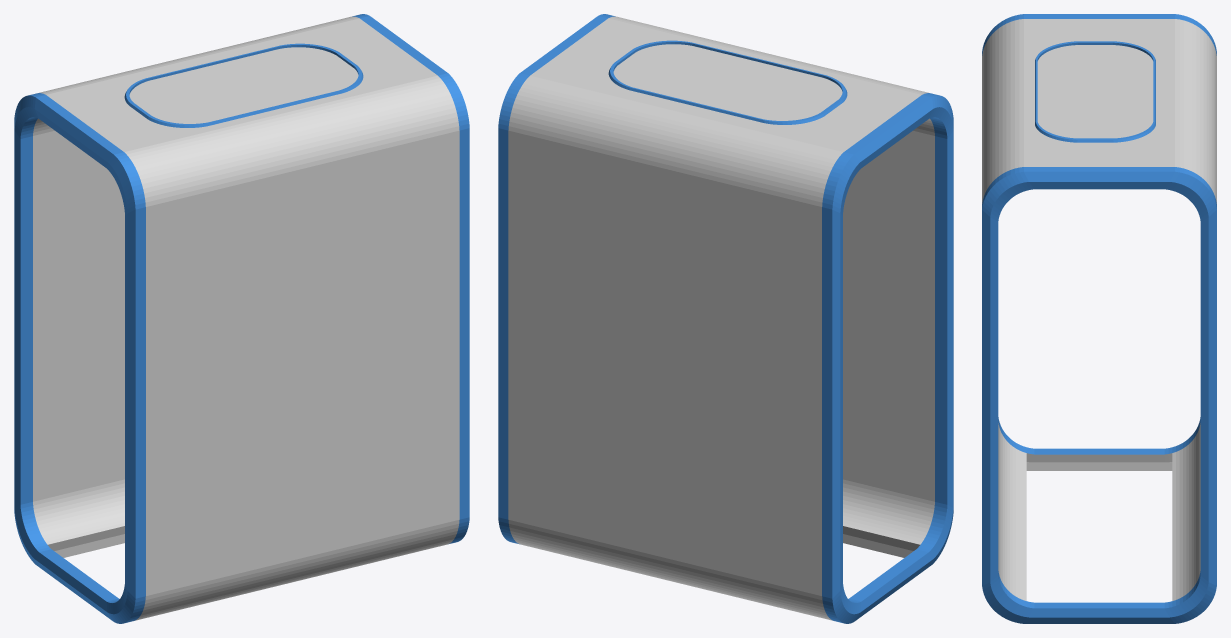
Rendered from House.fbx.
The picture shows the model from 3 angles, left to right: view 1: azimuth 30°, elevation 25°; view 2: azimuth 150°, elevation 25°; view 3: azimuth 270°, elevation 25°; orthographic projection. The views are drawn at different scales.
Visible parts, largest first — view 1: House, Base Wall, Window; view 2: House, Base Wall, Window; view 3: House, Base Wall, Window.
Boxes of the visible parts, x1,y1,x2,y2 form: House: (14,14,469,623); Base Wall: (46,18,437,151); Window: (47,18,436,151); House: (498,14,953,623); Base Wall: (530,18,920,151); Window: (531,19,920,151); House: (982,14,1216,623); Base Wall: (1024,19,1174,166); Window: (1024,19,1174,166).
Size of the model in its own units: 2459 by 3230 by 1513.
